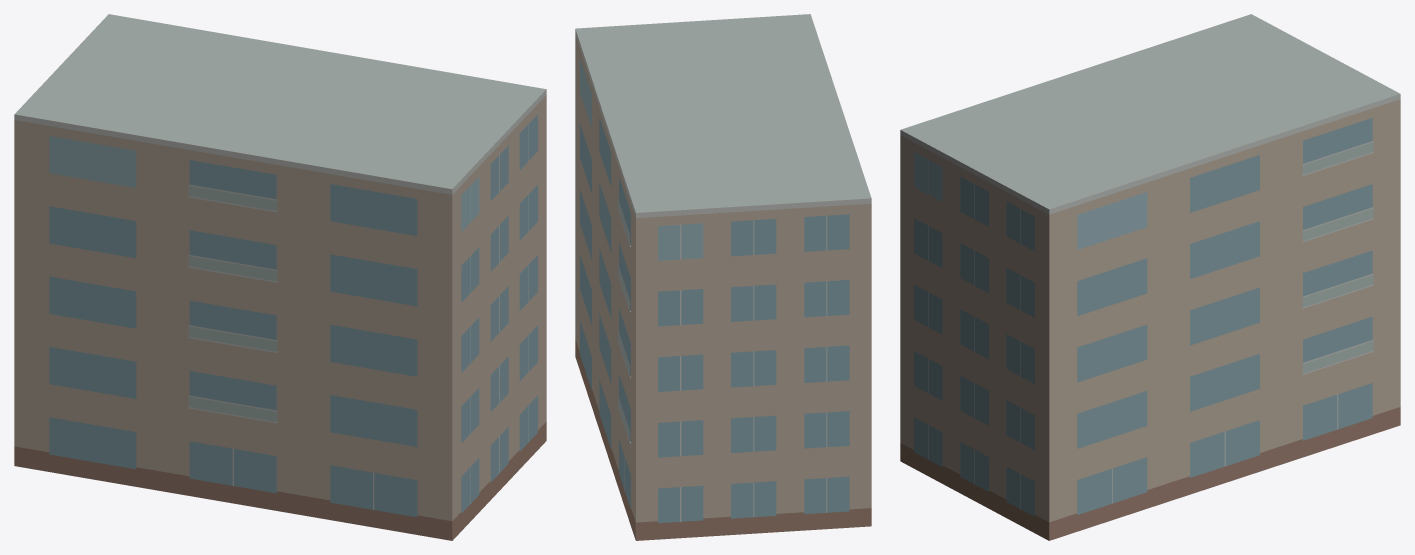
File: survey-upis-32740710.glb
The picture shows the model from 3 angles, left to right: view 1: azimuth 30°, elevation 25°; view 2: azimuth 150°, elevation 25°; view 3: azimuth 270°, elevation 25°; orthographic projection. The views are drawn at different scales.
Visible parts, largest first — view 1: survey-upis-32740710.tmp; view 2: survey-upis-32740710.tmp; view 3: survey-upis-32740710.tmp.
Part boxes in pixels (x1,y1,x2,y2): survey-upis-32740710.tmp: (14,14,546,540); survey-upis-32740710.tmp: (575,14,871,540); survey-upis-32740710.tmp: (900,14,1400,540).
Bounding box in the file's own units: 19.29 × 15.25 × 20.88.
